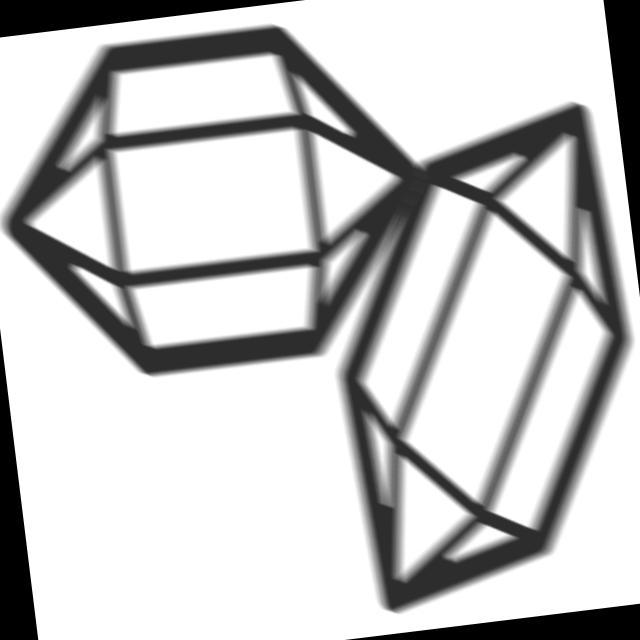crystal: (282, 81, 640, 633), (1, 1, 455, 412)
